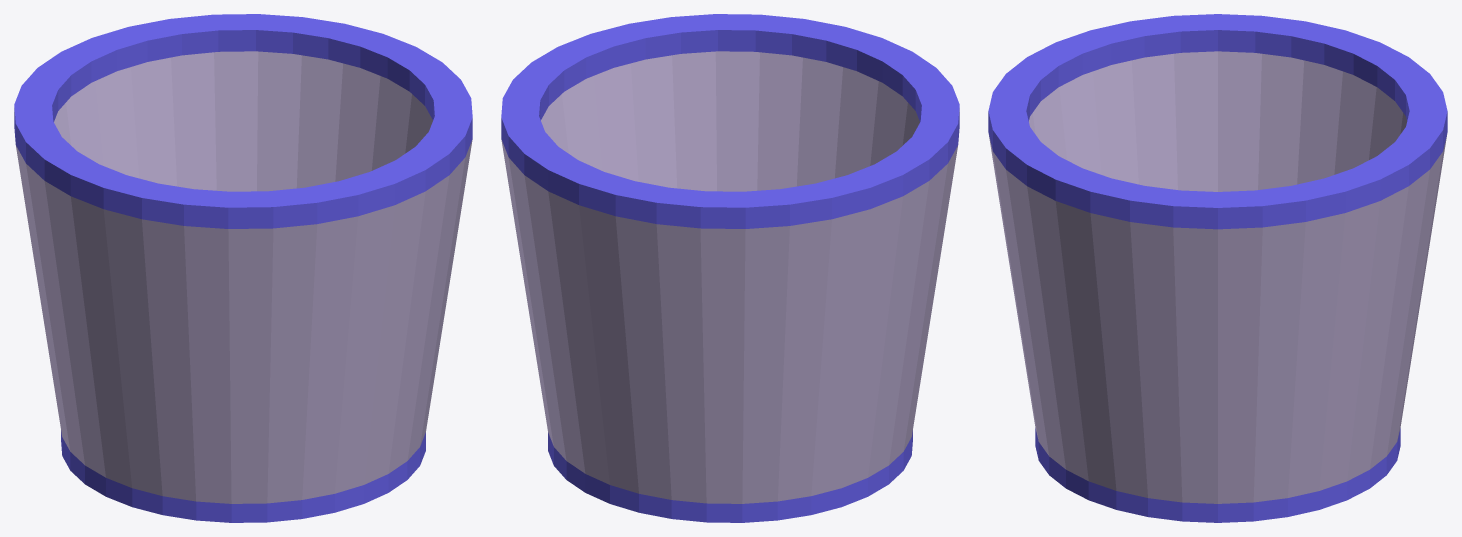
File: Turumpo blue basket.fbx
The picture shows the model from 3 angles, left to right: view 1: azimuth 30°, elevation 25°; view 2: azimuth 150°, elevation 25°; view 3: azimuth 270°, elevation 25°; orthographic projection.
Visible parts, largest first — view 1: Turumpo B basket; view 2: Turumpo B basket; view 3: Turumpo B basket.
Boxes of the visible parts, x1,y1,x2,y2 form: Turumpo B basket: (14, 14, 472, 522); Turumpo B basket: (501, 14, 959, 522); Turumpo B basket: (988, 14, 1447, 522).
Bounding box in the file's own units: 283 × 227 × 283.
